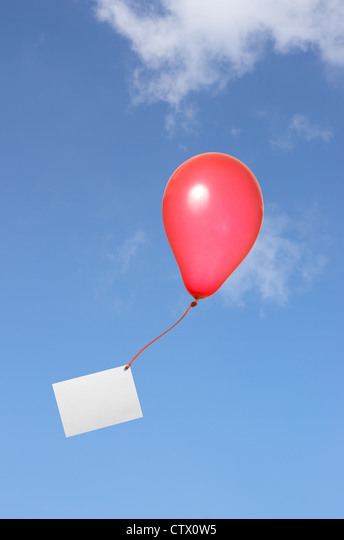Balloon: (161, 152, 264, 301)
